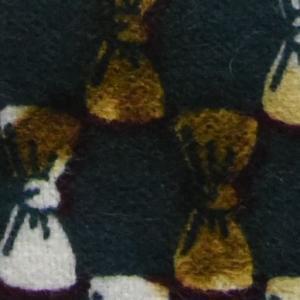Oil Stain: (1, 1, 300, 299)
